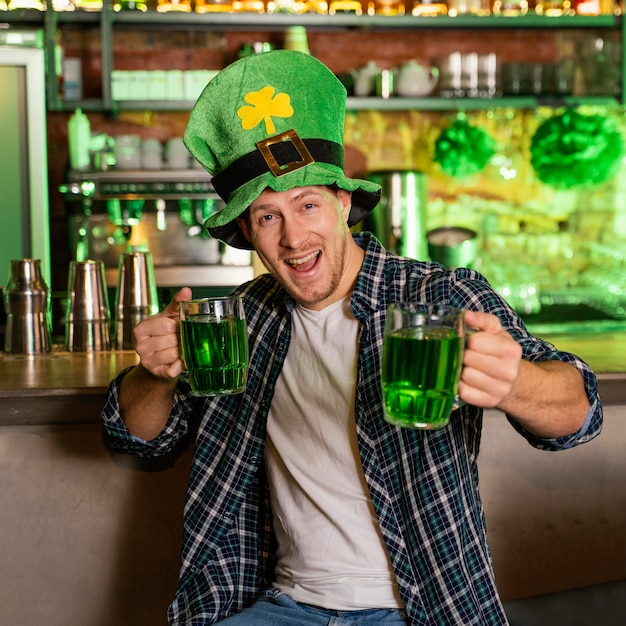alcohol: (385, 296, 483, 434), (173, 296, 256, 396)
